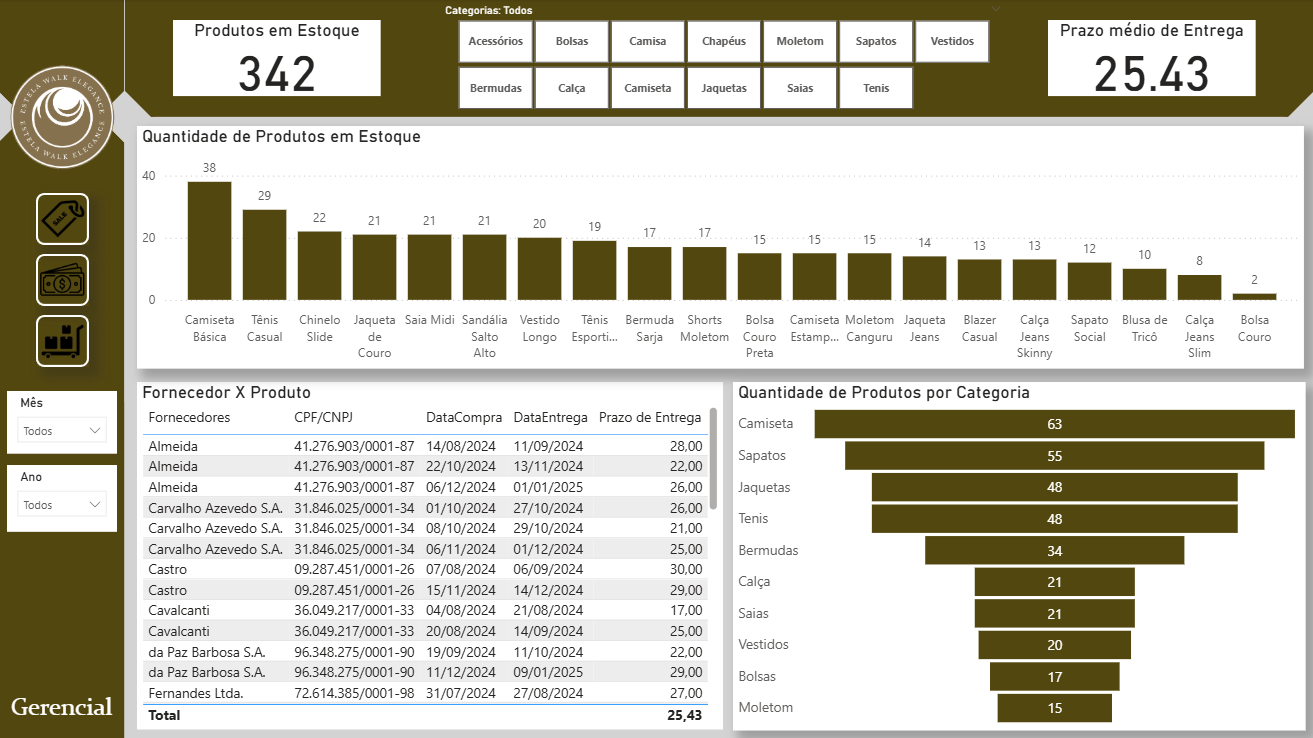

The page's visual inventory and layout, read from the dashboard file:
{"tool":"powerbi","page":{"name":"Gerencial","canvas":[1280,720],"ordinal":2},"visuals":[{"type":"shape","box":[0,114.5,123.4,605.5],"z":0},{"type":"shape","box":[0,0,123.4,114.7],"z":1000},{"type":"image","box":[4.9,50.5,113.7,127.3],"z":2000},{"type":"shape","box":[123.4,0,1156.6,114.7],"z":3000},{"type":"slicer","fields":{"Values":["Vendas.DataVenda.Variation.Hierarquia de datas.Mês"]},"box":[8.8,381.4,106.9,61.2],"z":4000},{"type":"slicer","fields":{"Values":["Vendas.DataVenda.Variation.Hierarquia de datas.Ano"]},"box":[8.8,453.3,106.9,65.1],"z":5000},{"type":"tableEx","title":"Fornecedor X Produto","fields":{"Values":["Fornecedores.NomeFornecedor","Fornecedores.CPF/CNPJ","FornecedorEntrega.DataCompra","FornecedorEntrega.DataEntrega","FornecedorEntrega.TempoEntrega"]},"box":[135.2,372.5,570,338.5],"z":6000},{"type":"card","title":"Prazo médio de Entrega","fields":{"Values":["FornecedorEntrega.TempoEntrega"]},"box":[1021.3,20.4,202.3,73.9],"z":7000},{"type":"columnChart","title":"Quantidade de Produtos em Estoque","fields":{"Category":["Produtos.DescricaoProduto"],"Y":["Produtos.QuantidadeEstoque"]},"box":[135.2,123.5,1135.1,236.4],"z":8000},{"type":"slicer","fields":{"Values":["Categorias.DescricaoCategoria"]},"box":[422.1,0,566.1,113.8],"z":9000},{"type":"card","title":"Produtos em Estoque","fields":{"Values":["Produtos.QuantidadeEstoque"]},"box":[170.2,20.4,202.3,73.9],"z":10000},{"type":"textbox","box":[0,668.5,123.4,51.5],"z":11000},{"type":"funnel","title":"Quantidade de Produtos por Categoria","fields":{"Category":["Categorias.DescricaoCategoria"],"Y":["Produtos.QuantidadeEstoque"]},"box":[714.9,372.5,557.3,339.5],"z":12000},{"type":"shape","box":[36.9,188.6,51.5,50.5],"z":13000},{"type":"shape","box":[36.9,247.9,51.5,50.5],"z":15000},{"type":"shape","box":[36.9,307.2,51.5,50.5],"z":16000},{"type":"image","box":[36,243.9,53.5,56.4],"z":16001},{"type":"image","box":[21.4,297.4,82.6,71.9],"z":16002},{"type":"image","box":[36.9,183.7,52.5,59.3],"z":16003}]}

Visuals, with their boxes in screenshot pixels (x1, y1, x2, y2), scaled from the page's 1280x720 canvas onto the 1313x738 screenshot:
shape: <bbox>0, 117, 127, 737</bbox>
shape: <bbox>0, 0, 127, 118</bbox>
image: <bbox>5, 52, 122, 182</bbox>
shape: <bbox>127, 0, 1312, 118</bbox>
slicer - Vendas.DataVenda.Variation.Hierarquia de datas.Mês: <bbox>9, 391, 119, 454</bbox>
slicer - Vendas.DataVenda.Variation.Hierarquia de datas.Ano: <bbox>9, 465, 119, 531</bbox>
"Fornecedor X Produto" tableEx: <bbox>139, 382, 723, 729</bbox>
"Prazo médio de Entrega" card: <bbox>1048, 21, 1255, 97</bbox>
"Quantidade de Produtos em Estoque" columnChart: <bbox>139, 127, 1303, 369</bbox>
slicer - Categorias.DescricaoCategoria: <bbox>433, 0, 1014, 117</bbox>
"Produtos em Estoque" card: <bbox>175, 21, 382, 97</bbox>
textbox: <bbox>0, 685, 127, 737</bbox>
"Quantidade de Produtos por Categoria" funnel: <bbox>733, 382, 1305, 730</bbox>
shape: <bbox>38, 193, 91, 245</bbox>
shape: <bbox>38, 254, 91, 306</bbox>
shape: <bbox>38, 315, 91, 367</bbox>
image: <bbox>37, 250, 92, 308</bbox>
image: <bbox>22, 305, 107, 379</bbox>
image: <bbox>38, 188, 92, 249</bbox>
